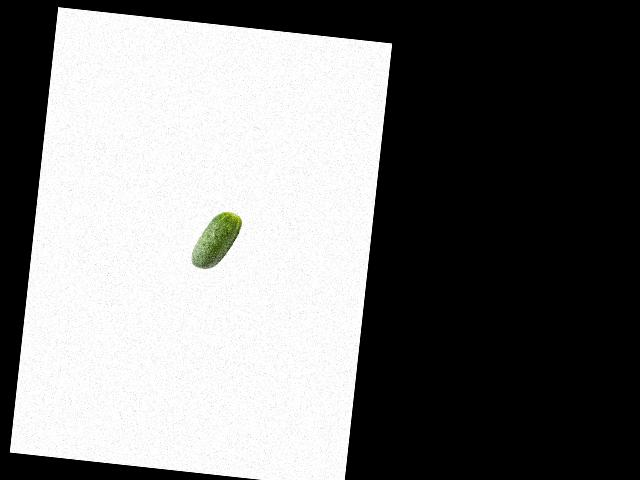cucumber: (190, 208, 242, 272)
